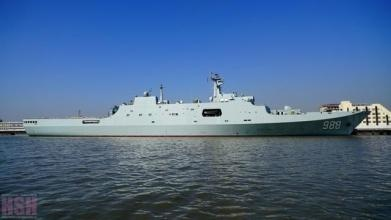warship: (20, 70, 372, 139)
